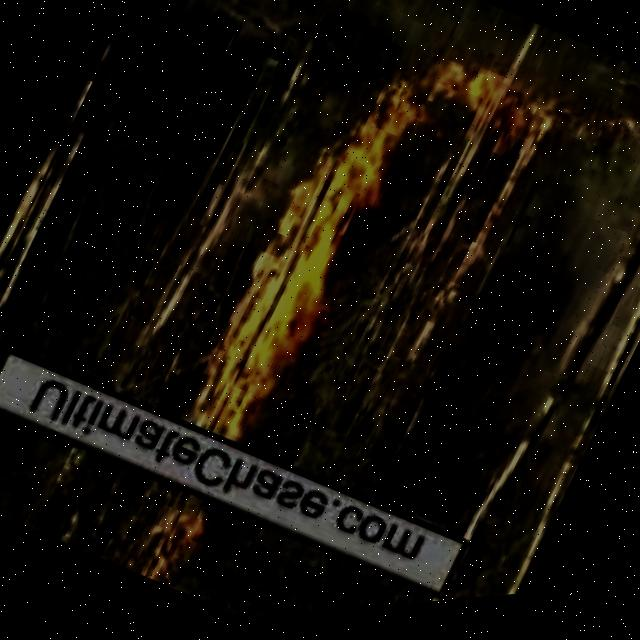Fire: (181, 123, 410, 467), (358, 17, 568, 208), (130, 500, 221, 602)
